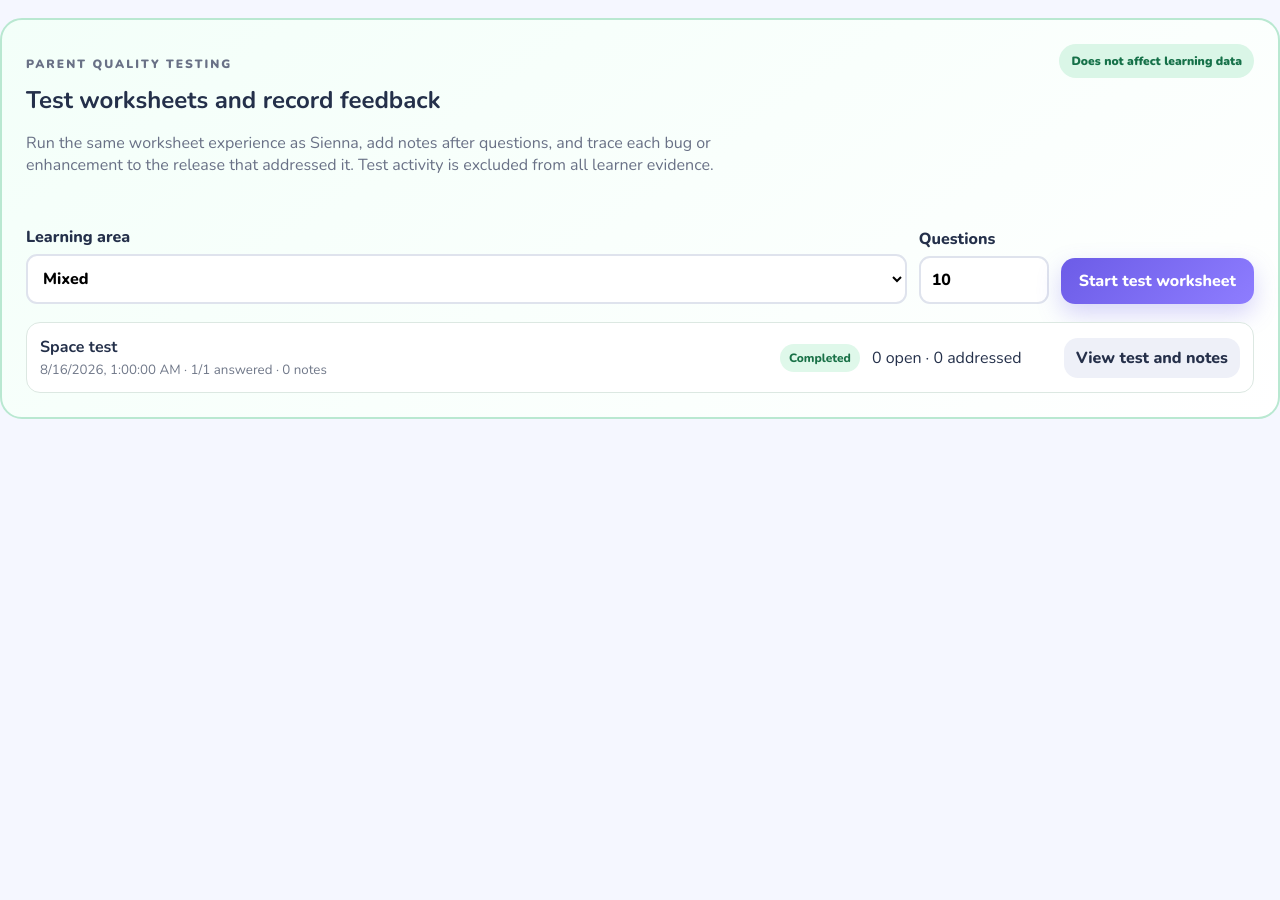
Scenario: parent test worksheets › shows stored visuals in the test review and closes accessibly
Click the button "View test and notes" at (1152, 358), box x1=1064 y1=338 x2=1240 y2=378
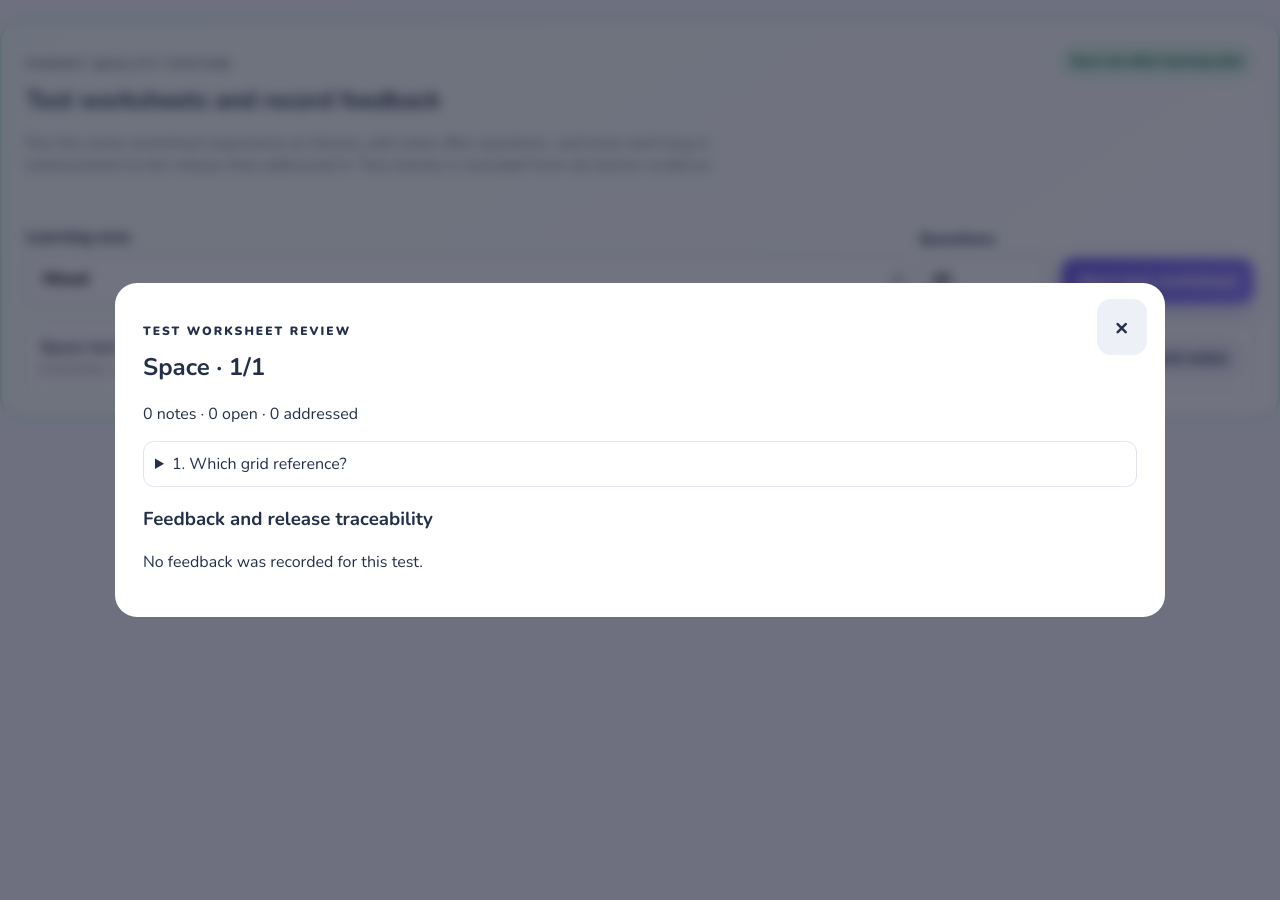
Result: the dialog "Space" is shown at x1=115 y1=283 x2=1165 y2=617
Click the heading "1. Which grid reference?" at (259, 464), box x1=172 y1=453 x2=347 y2=475
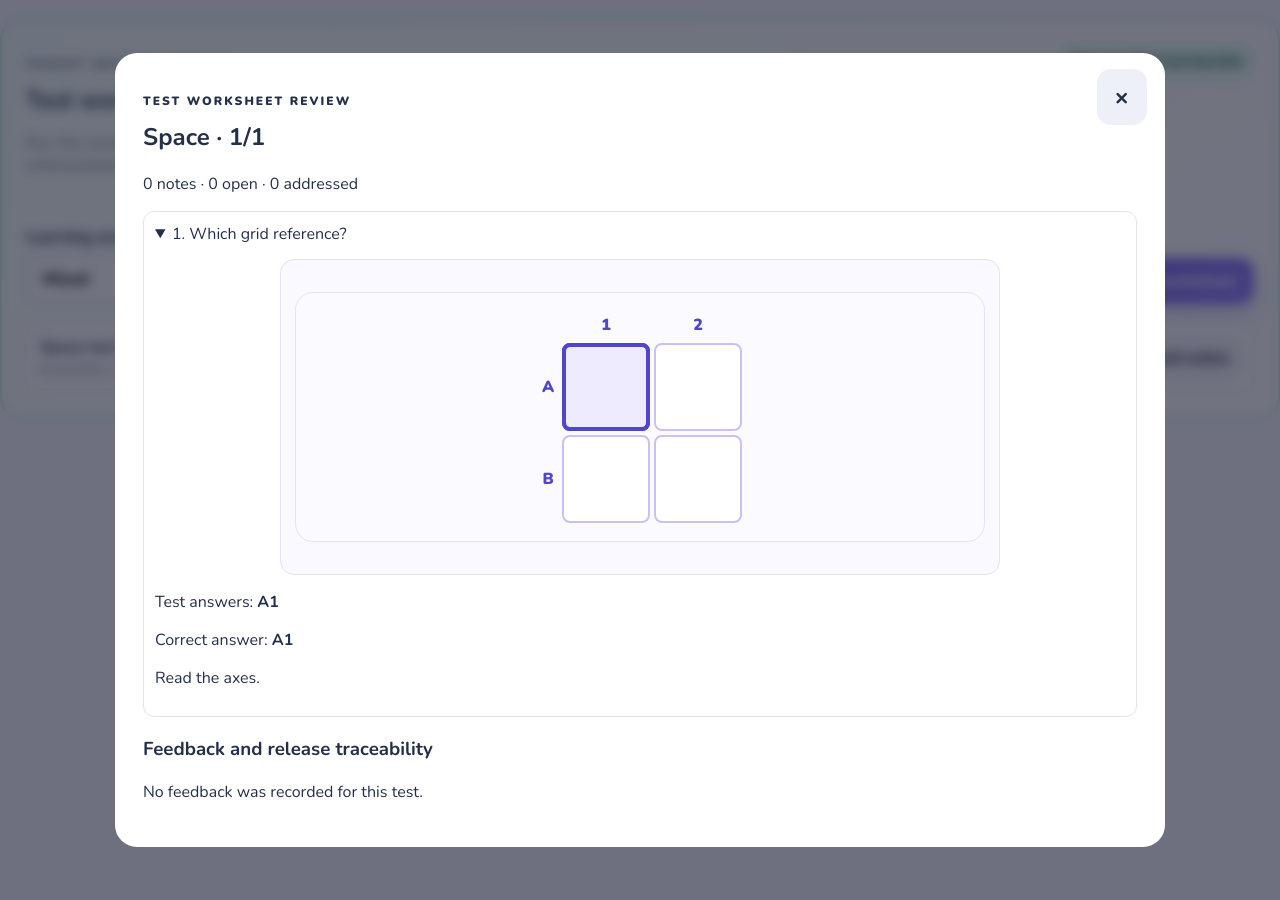
Result: the element named "Grid reference diagram" is shown at x1=295 y1=292 x2=985 y2=542
Press Escape
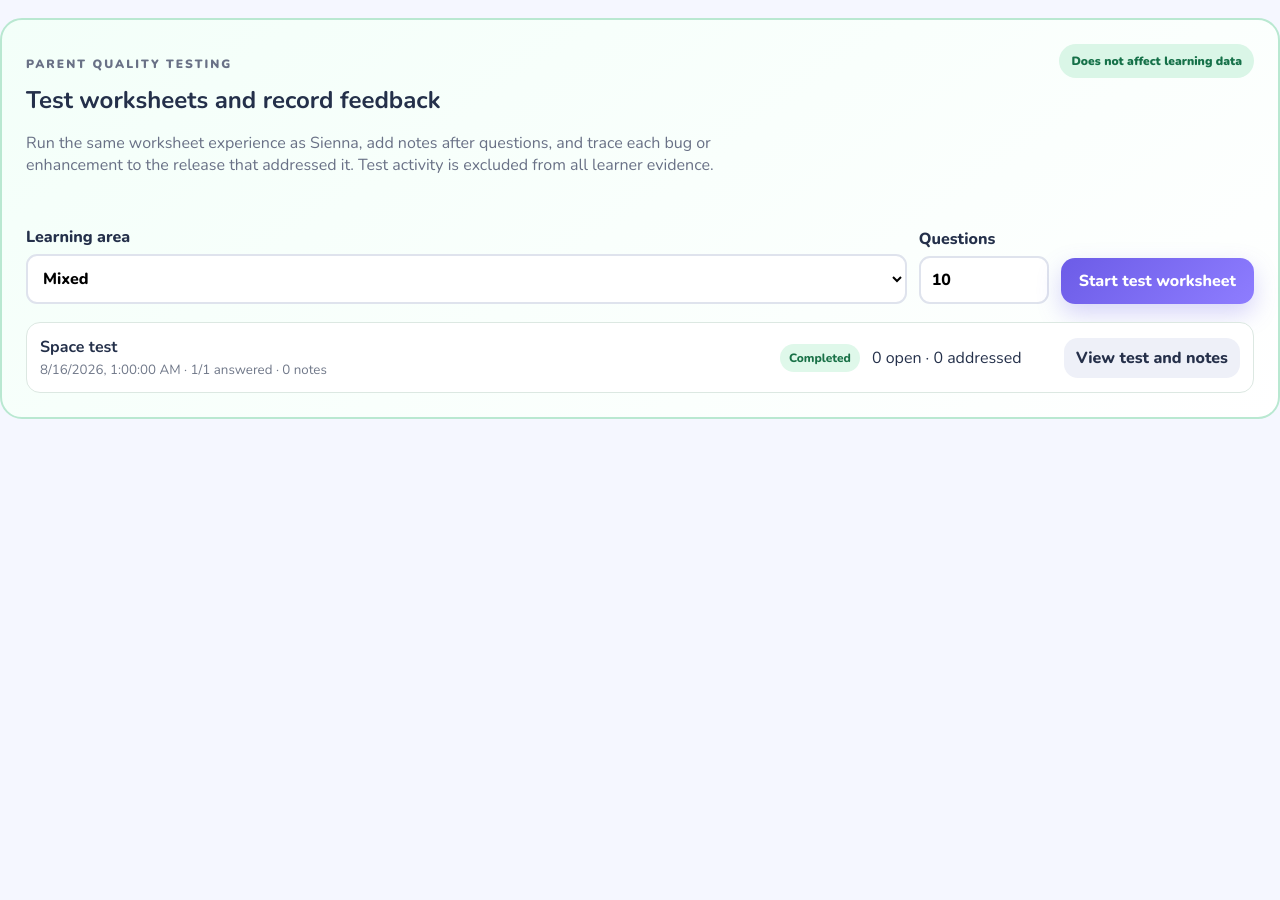
Result: the dialog is gone
